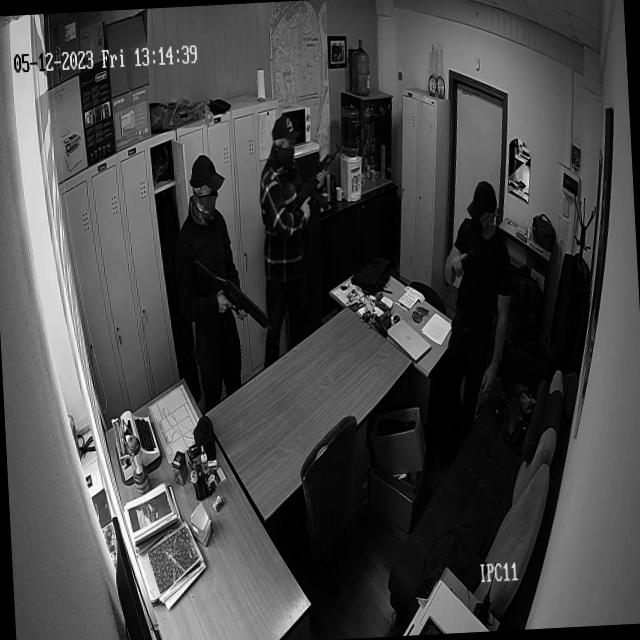gun: (194, 250, 274, 340), (288, 142, 346, 212), (456, 250, 478, 272)
person with a gun: (440, 180, 516, 425), (175, 157, 247, 390), (258, 119, 313, 344)
